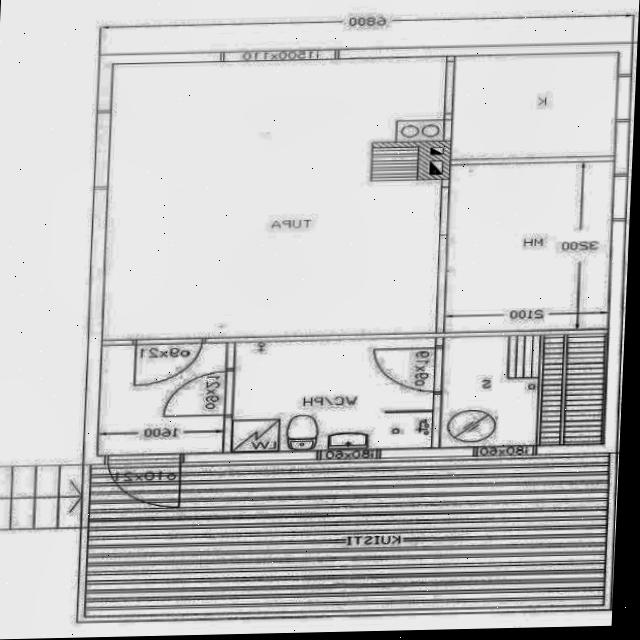room: (443, 154, 613, 340), (229, 338, 437, 452), (437, 334, 609, 447), (448, 53, 619, 159), (94, 344, 229, 455)
